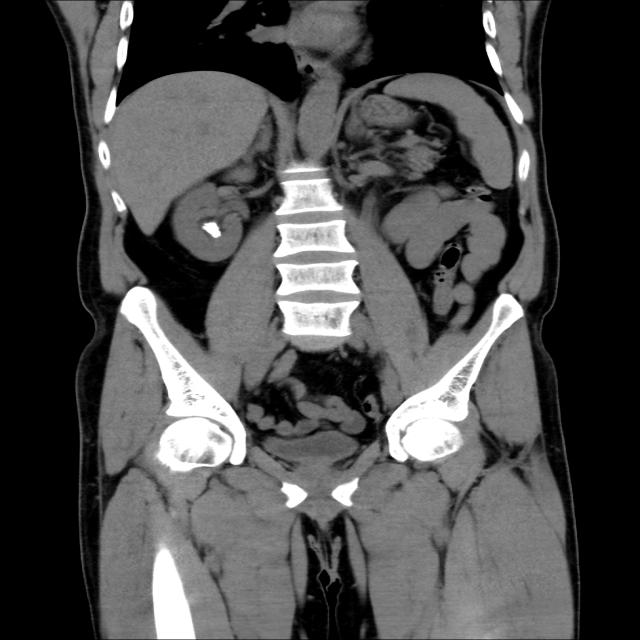kidneystone: (201, 221, 221, 238)
